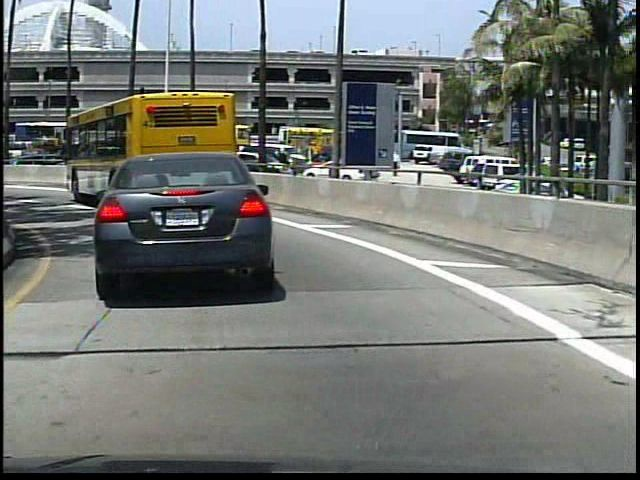person: (274, 146, 290, 180), (389, 149, 403, 179)
